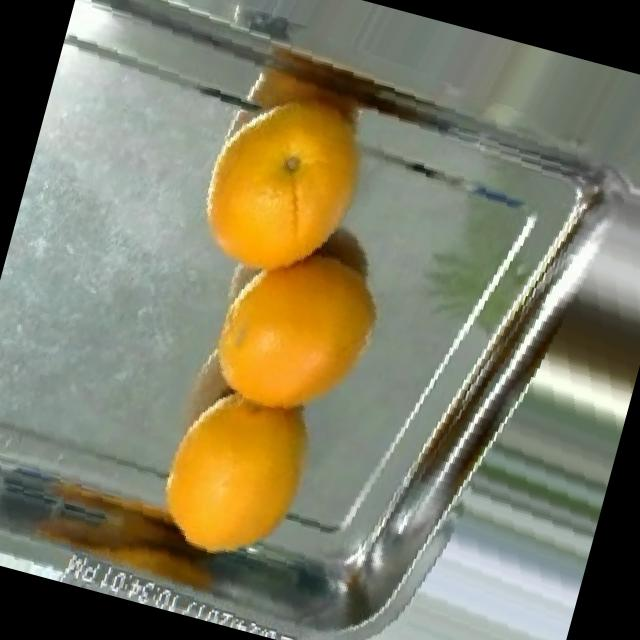Fruit: (169, 48, 409, 313), (122, 337, 360, 603)
